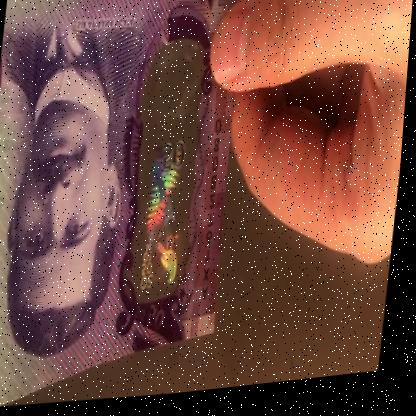50F: (138, 69, 205, 304)
